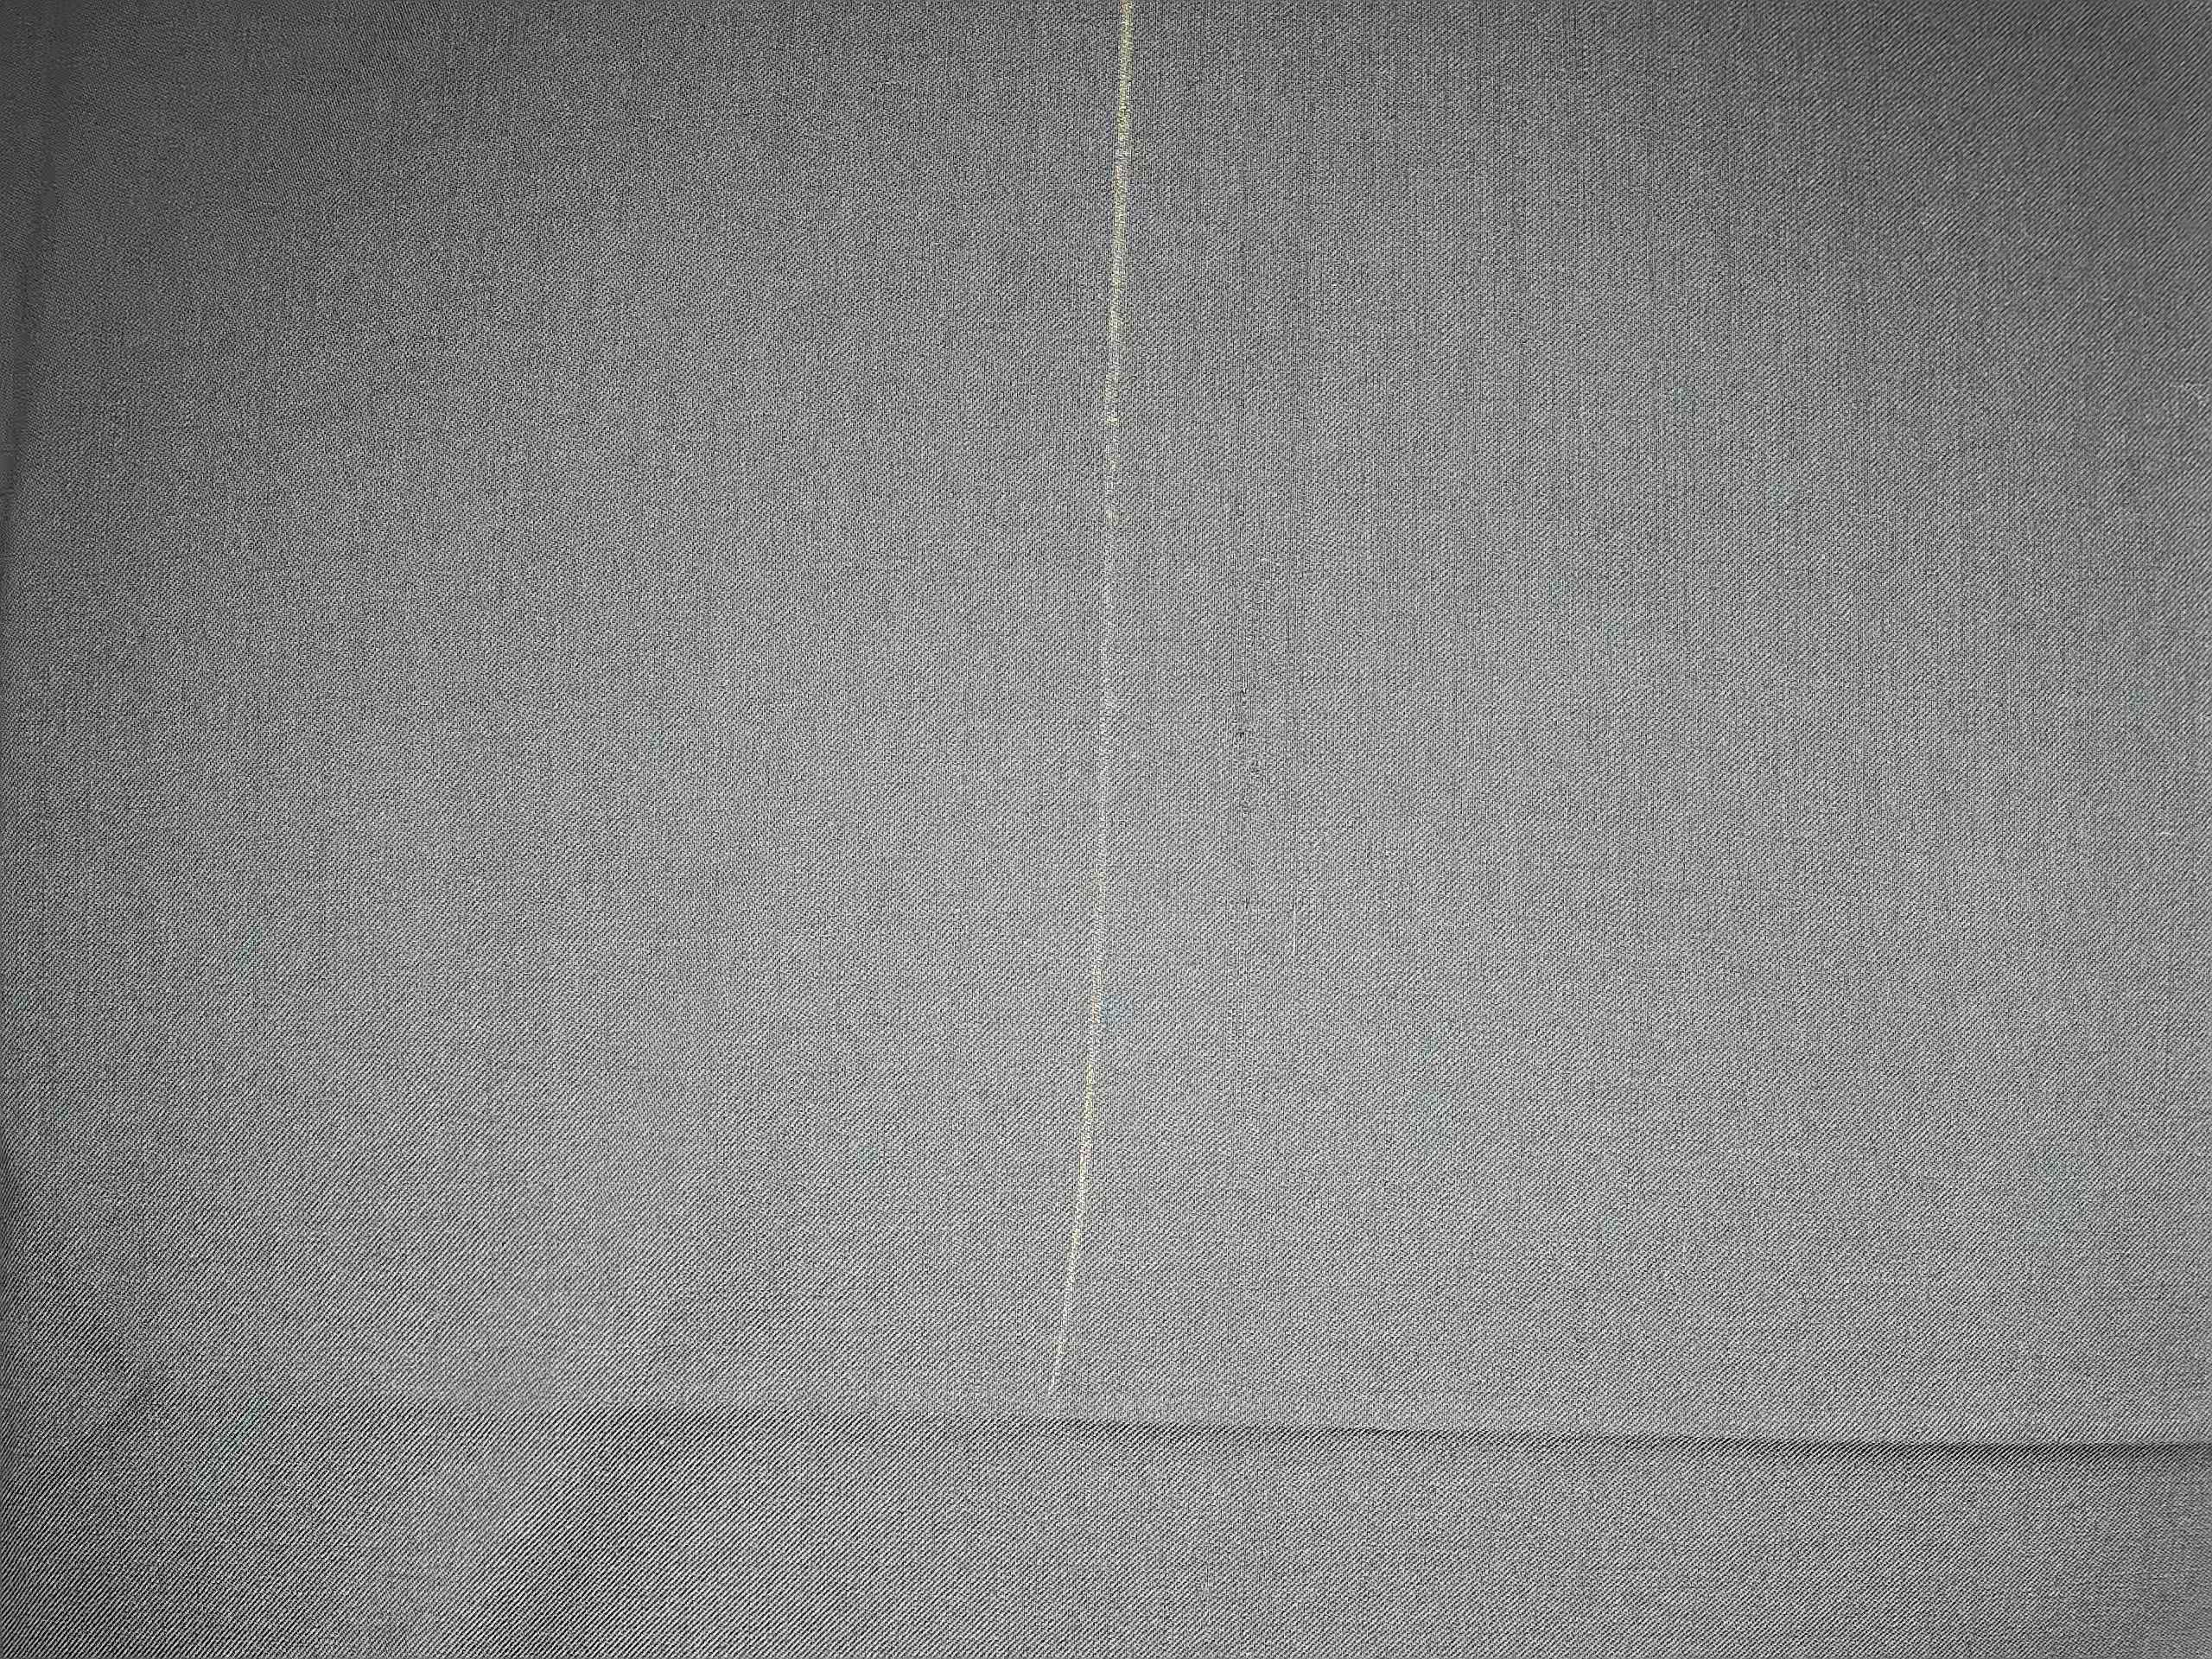hanging-warp: (1212, 493, 1327, 997)
